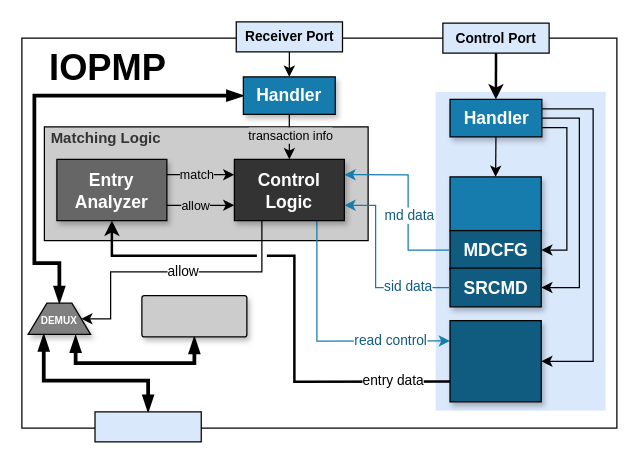
Some shapes in this 639 by 464 pixel diagram are drawn without their labels. The shapes that lost their labels are listed below. From the top down, each one's centre as x and y in pixels, then its label:
the point at 496,205: MMapped Registers
the point at 195,317: Error handler
the point at 496,362: Entry Array
the point at 147,426: Inititator Port
